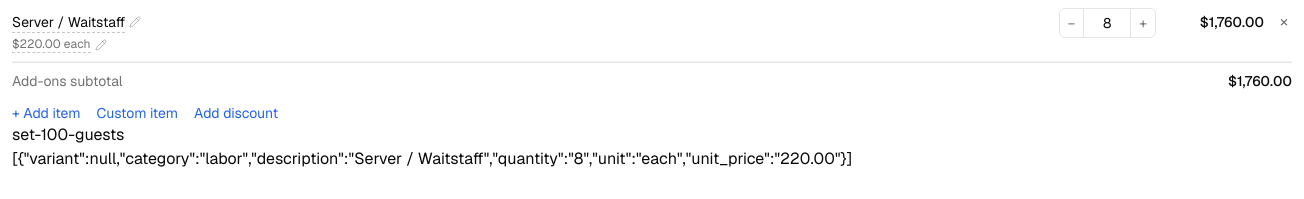
Test: AddOnItemsEditor — the chosen-lines card › AC4: the price subtitle opens price + unit + category, and reprices the line
The image size is (1304, 199).
Click the button with aria-label "Edit price and unit".
click(59, 44)  # box [12,36,107,53]
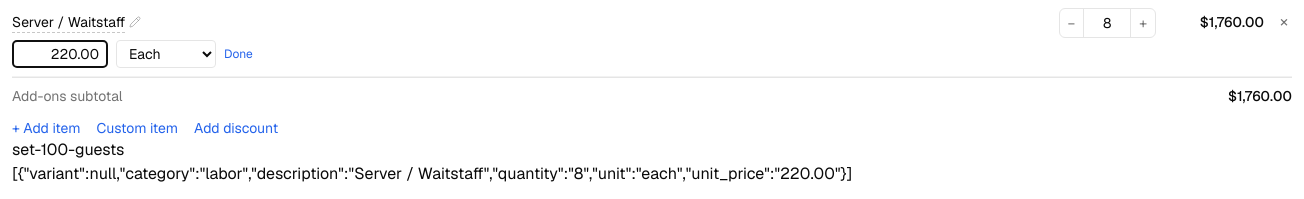
Replace the text in the number field named "Unit price" with "250" at [60, 54], box [12,40,108,68]
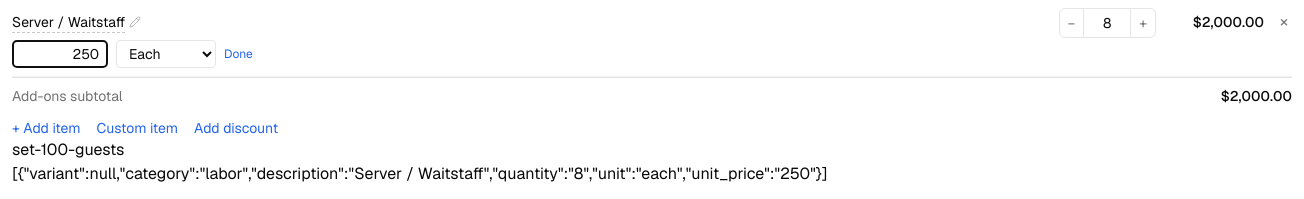
Check: the 1st text "$2,000.00" is shown, box [1193,13,1264,31]
Click the button "Done".
click(238, 54)  # box [224,46,253,62]
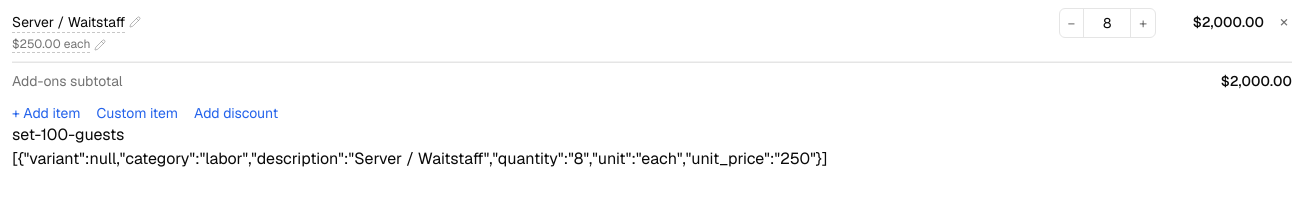
Check: the button with aria-label "Edit price and unit" reads "$250.00 each", box [12,36,106,53]
